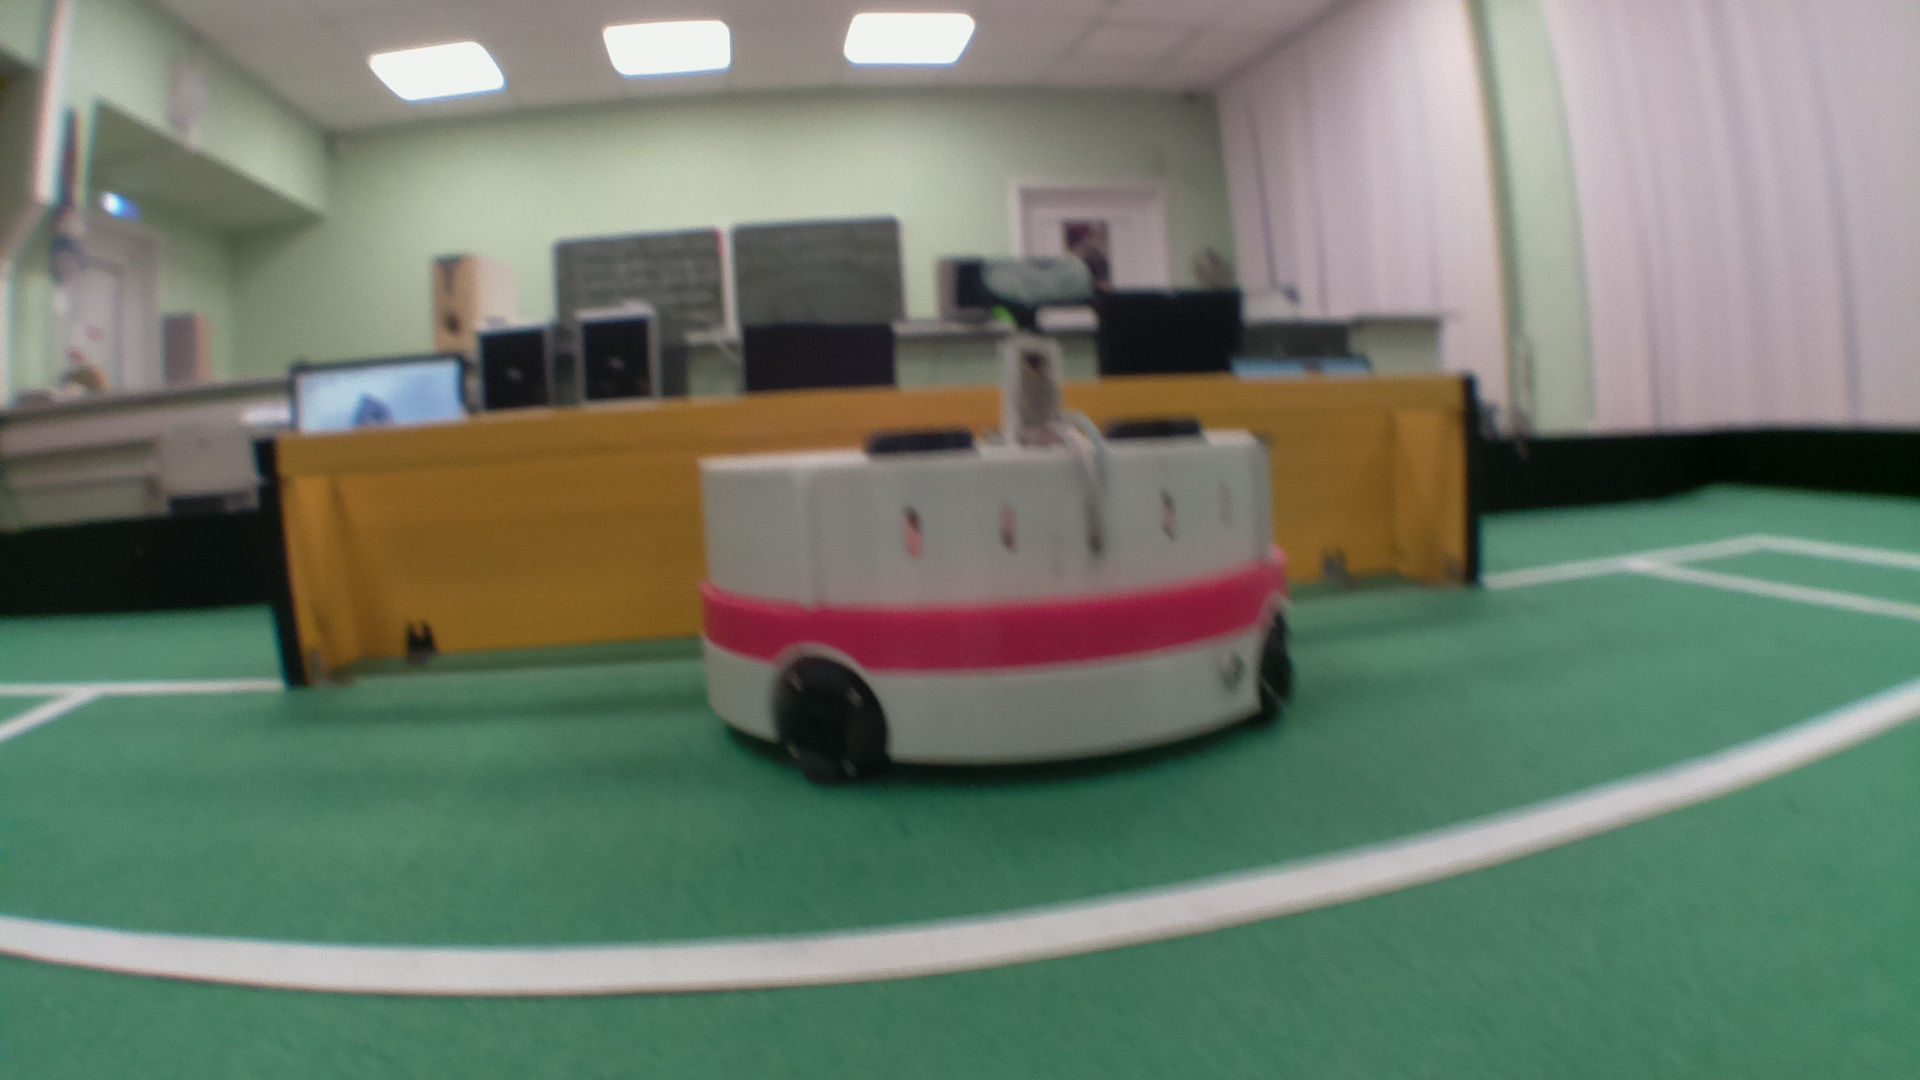YellowGoal: (280, 381, 1473, 659)
